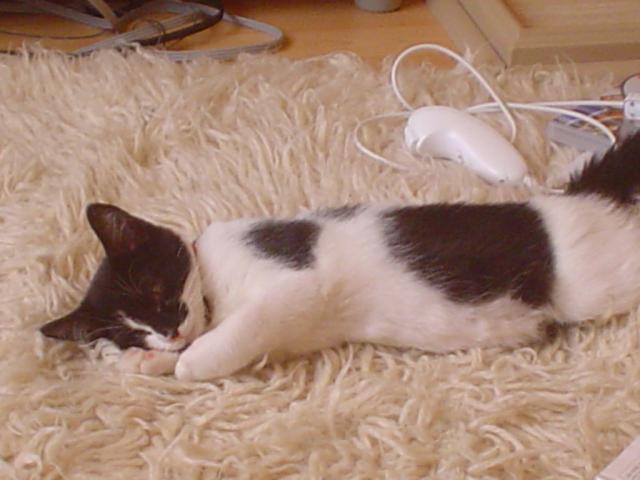Cat: (35, 128, 639, 377)
